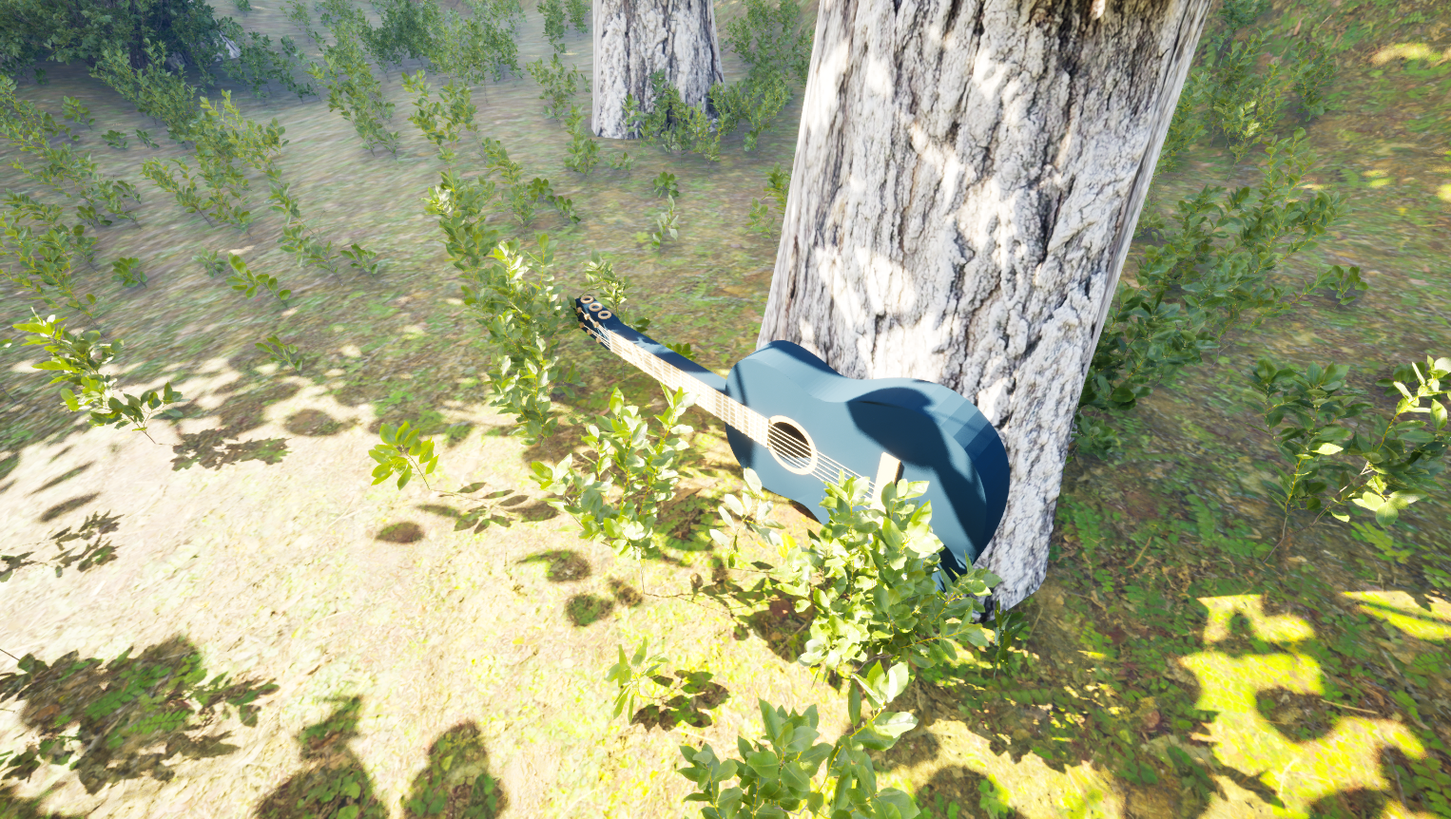Guitar: (549, 225, 1040, 629)
